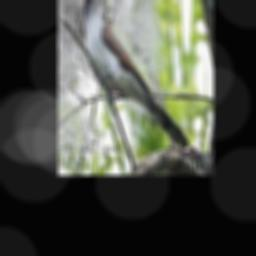Cuckoo: (84, 0, 189, 149)
